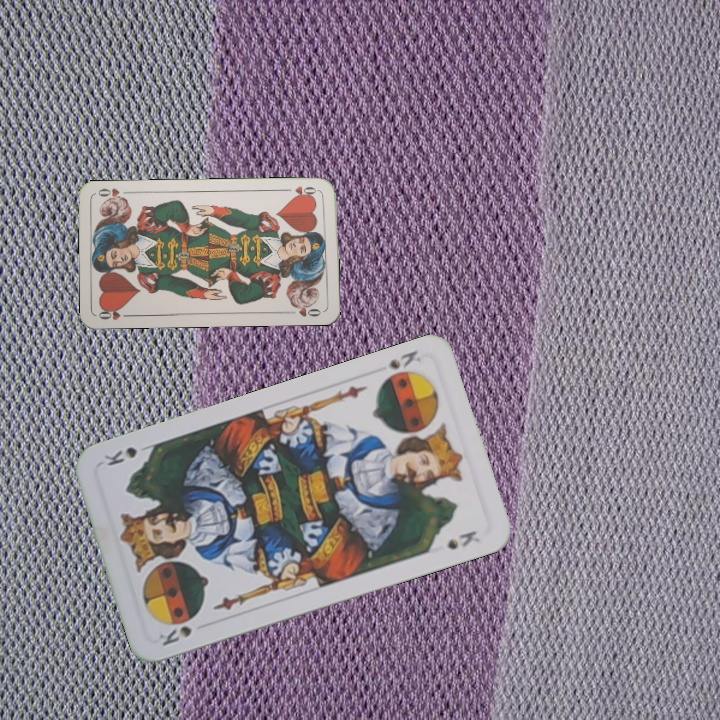HO: (95, 304, 135, 323), (281, 182, 321, 200)
SK: (154, 621, 195, 649), (384, 346, 424, 372)
